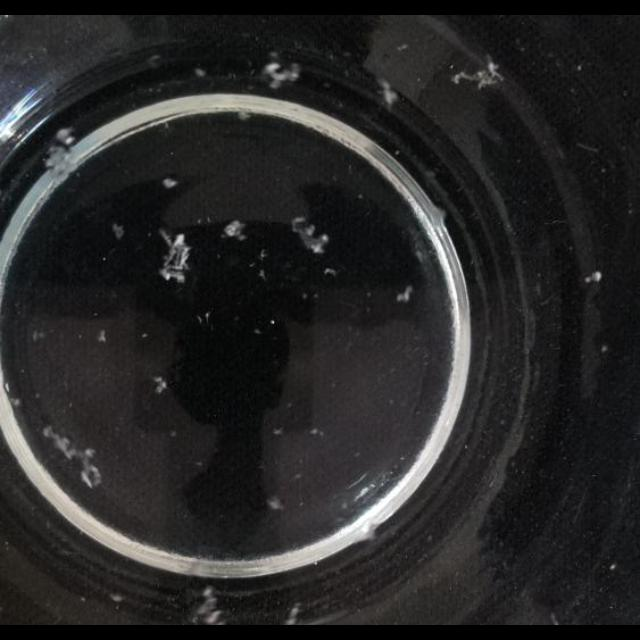Fibre: (40, 424, 102, 490), (152, 229, 195, 289), (40, 128, 81, 176), (454, 55, 506, 91), (291, 217, 331, 256), (260, 58, 302, 90), (376, 76, 399, 108), (223, 220, 249, 240), (396, 286, 412, 304), (152, 376, 168, 394), (266, 496, 284, 510)
microbeads: (194, 588, 226, 624), (285, 604, 303, 624), (584, 271, 602, 285), (162, 177, 178, 189), (32, 330, 46, 342), (9, 396, 21, 408), (324, 268, 338, 278), (97, 331, 107, 344), (258, 269, 268, 281), (273, 426, 283, 436), (203, 312, 211, 324), (397, 44, 409, 52), (310, 428, 320, 437), (197, 314, 205, 324), (260, 250, 268, 260), (5, 382, 12, 393), (601, 345, 609, 353), (169, 430, 177, 438), (576, 64, 584, 72), (254, 328, 262, 334), (140, 332, 148, 338), (610, 563, 616, 571), (269, 320, 275, 326)
